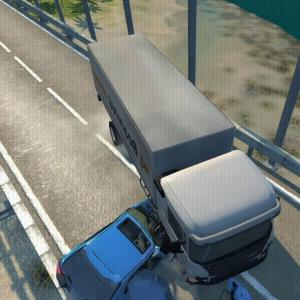severe: (55, 30, 284, 300)
